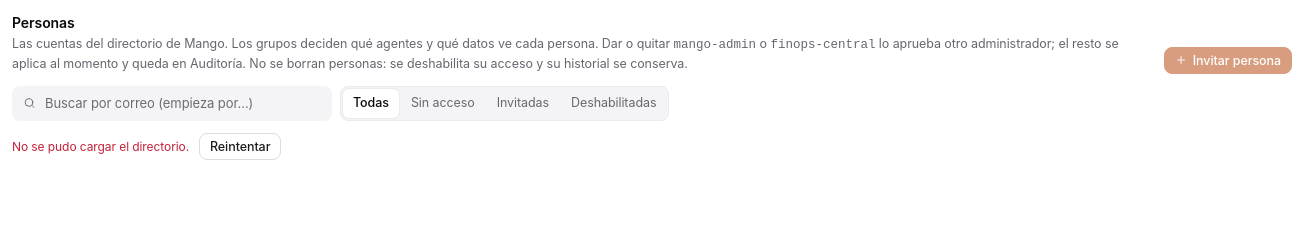
Scenario: Ajustes › Personas (design people.jsx) › says the directory could not be loaded, without the server message, and retries
The width and height of the screenshot is (1304, 239).
expect the message shows "No se pudo cargar el directorio.": met, box [12,138,189,154]
Click the button "Reintentar": {"x": 240, "y": 146} [199,133,281,160]
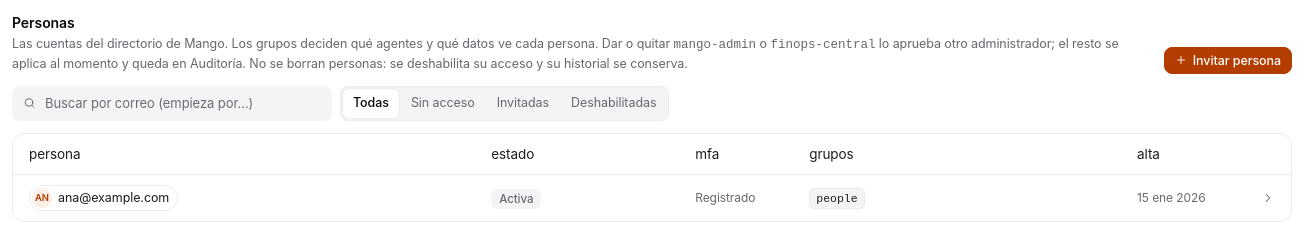
expect the element titled "ana@example.com" is shown: met, box [58,189,169,208]
